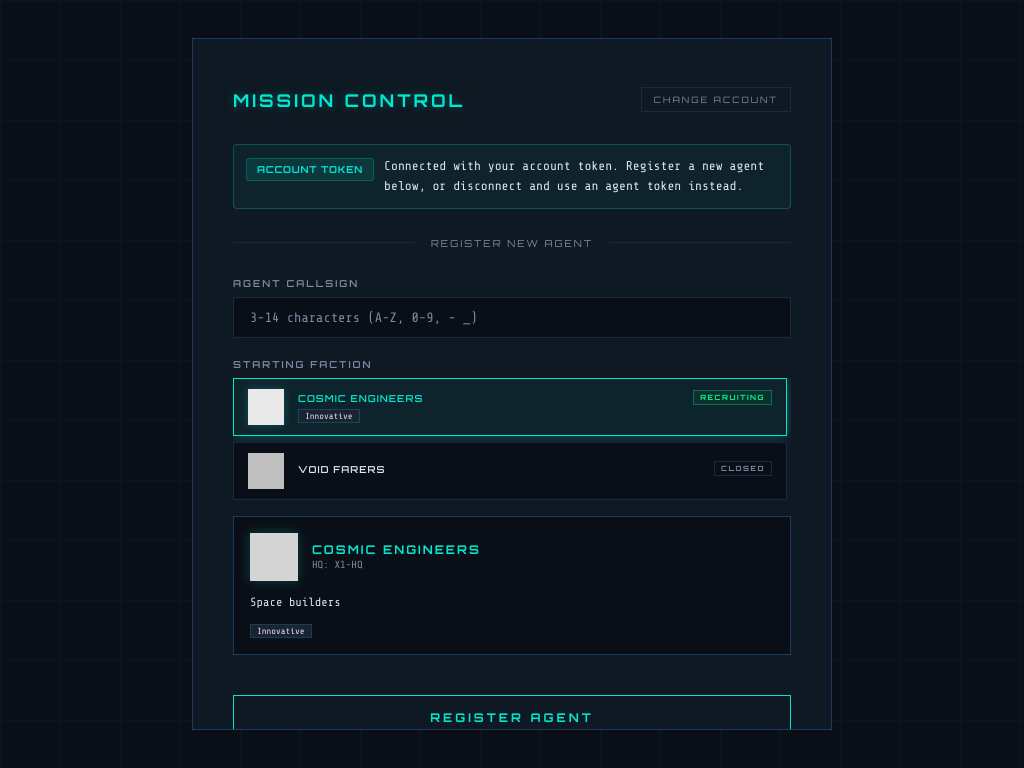
it: AgentScreen › selects a different faction
The image size is (1024, 768).
Click the text "Void Farers" at (342, 469), box [298,463,385,475]
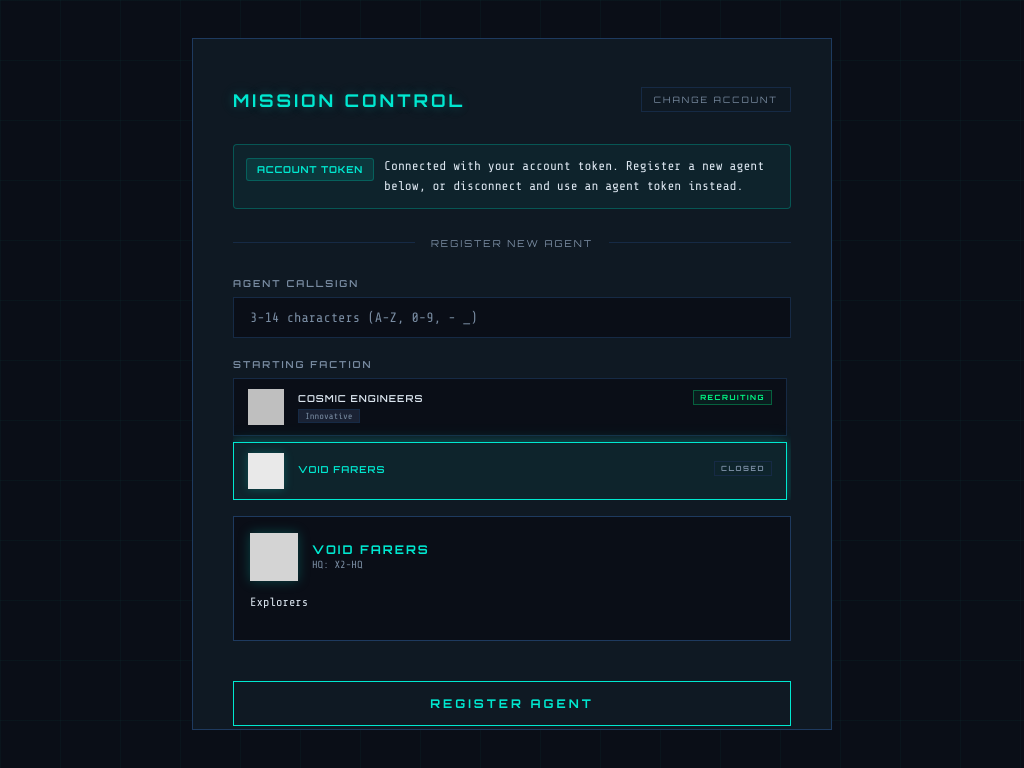
Expected: the text "Explorers" is shown, [250,595,308,609]
Expected: the text "HQ: X2-HQ" is shown, [312,559,362,571]
